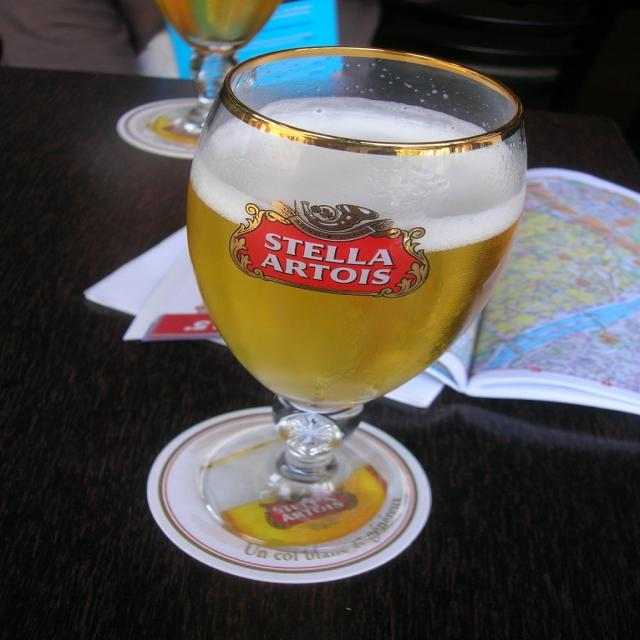stellaartois: (224, 196, 438, 304)
